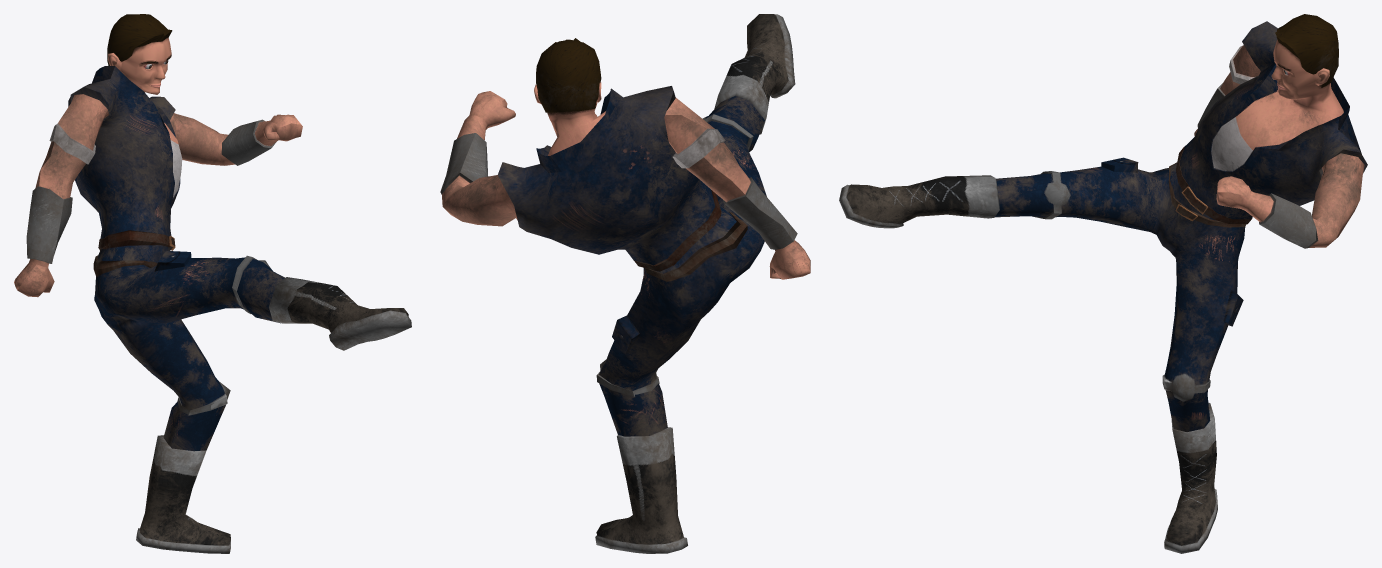
Rendered from Anim_ataque_f2_jugador.0019.obj.
3 renders of one model, left to right at view 1: azimuth 30°, elevation 25°; view 2: azimuth 150°, elevation 25°; view 3: azimuth 270°, elevation 25°, orthographic. The views are drawn at different scales.
Visible parts, largest first — view 1: polySurface1; view 2: polySurface1; view 3: polySurface1.
Boxes of the visible parts, x1=… form: polySurface1: x1=14, y1=14, x2=411, y2=553; polySurface1: x1=440, y1=14, x2=810, y2=553; polySurface1: x1=839, y1=14, x2=1367, y2=553.
Bounding box in the file's own units: 5.47 × 8.87 × 8.18.
